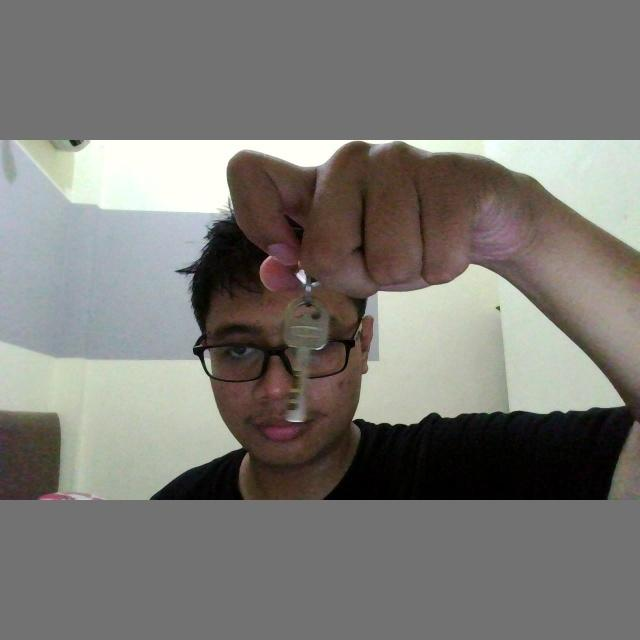Keys: (272, 286, 331, 426)
